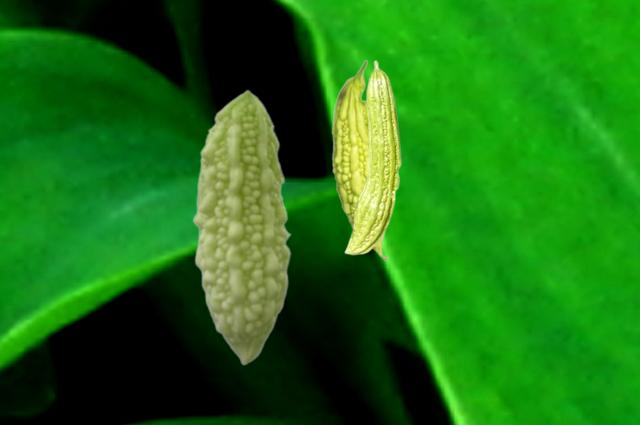ampalaya: (192, 89, 291, 365), (330, 59, 391, 263), (342, 59, 402, 257)
